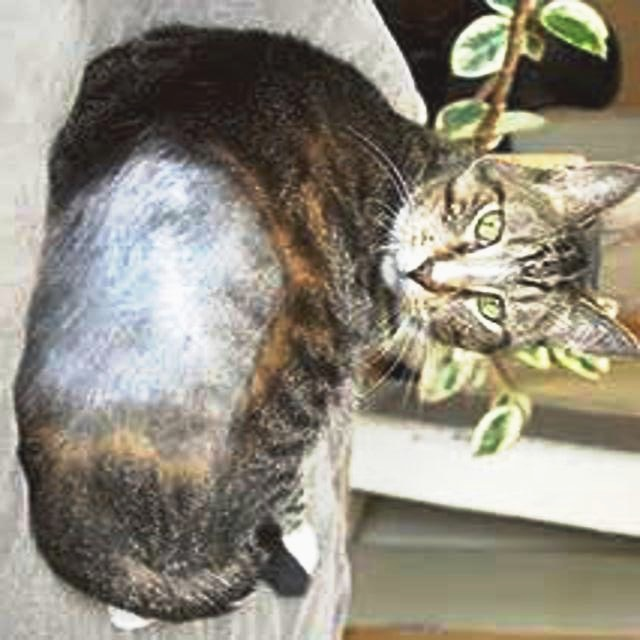hairloss: (45, 159, 268, 466)
